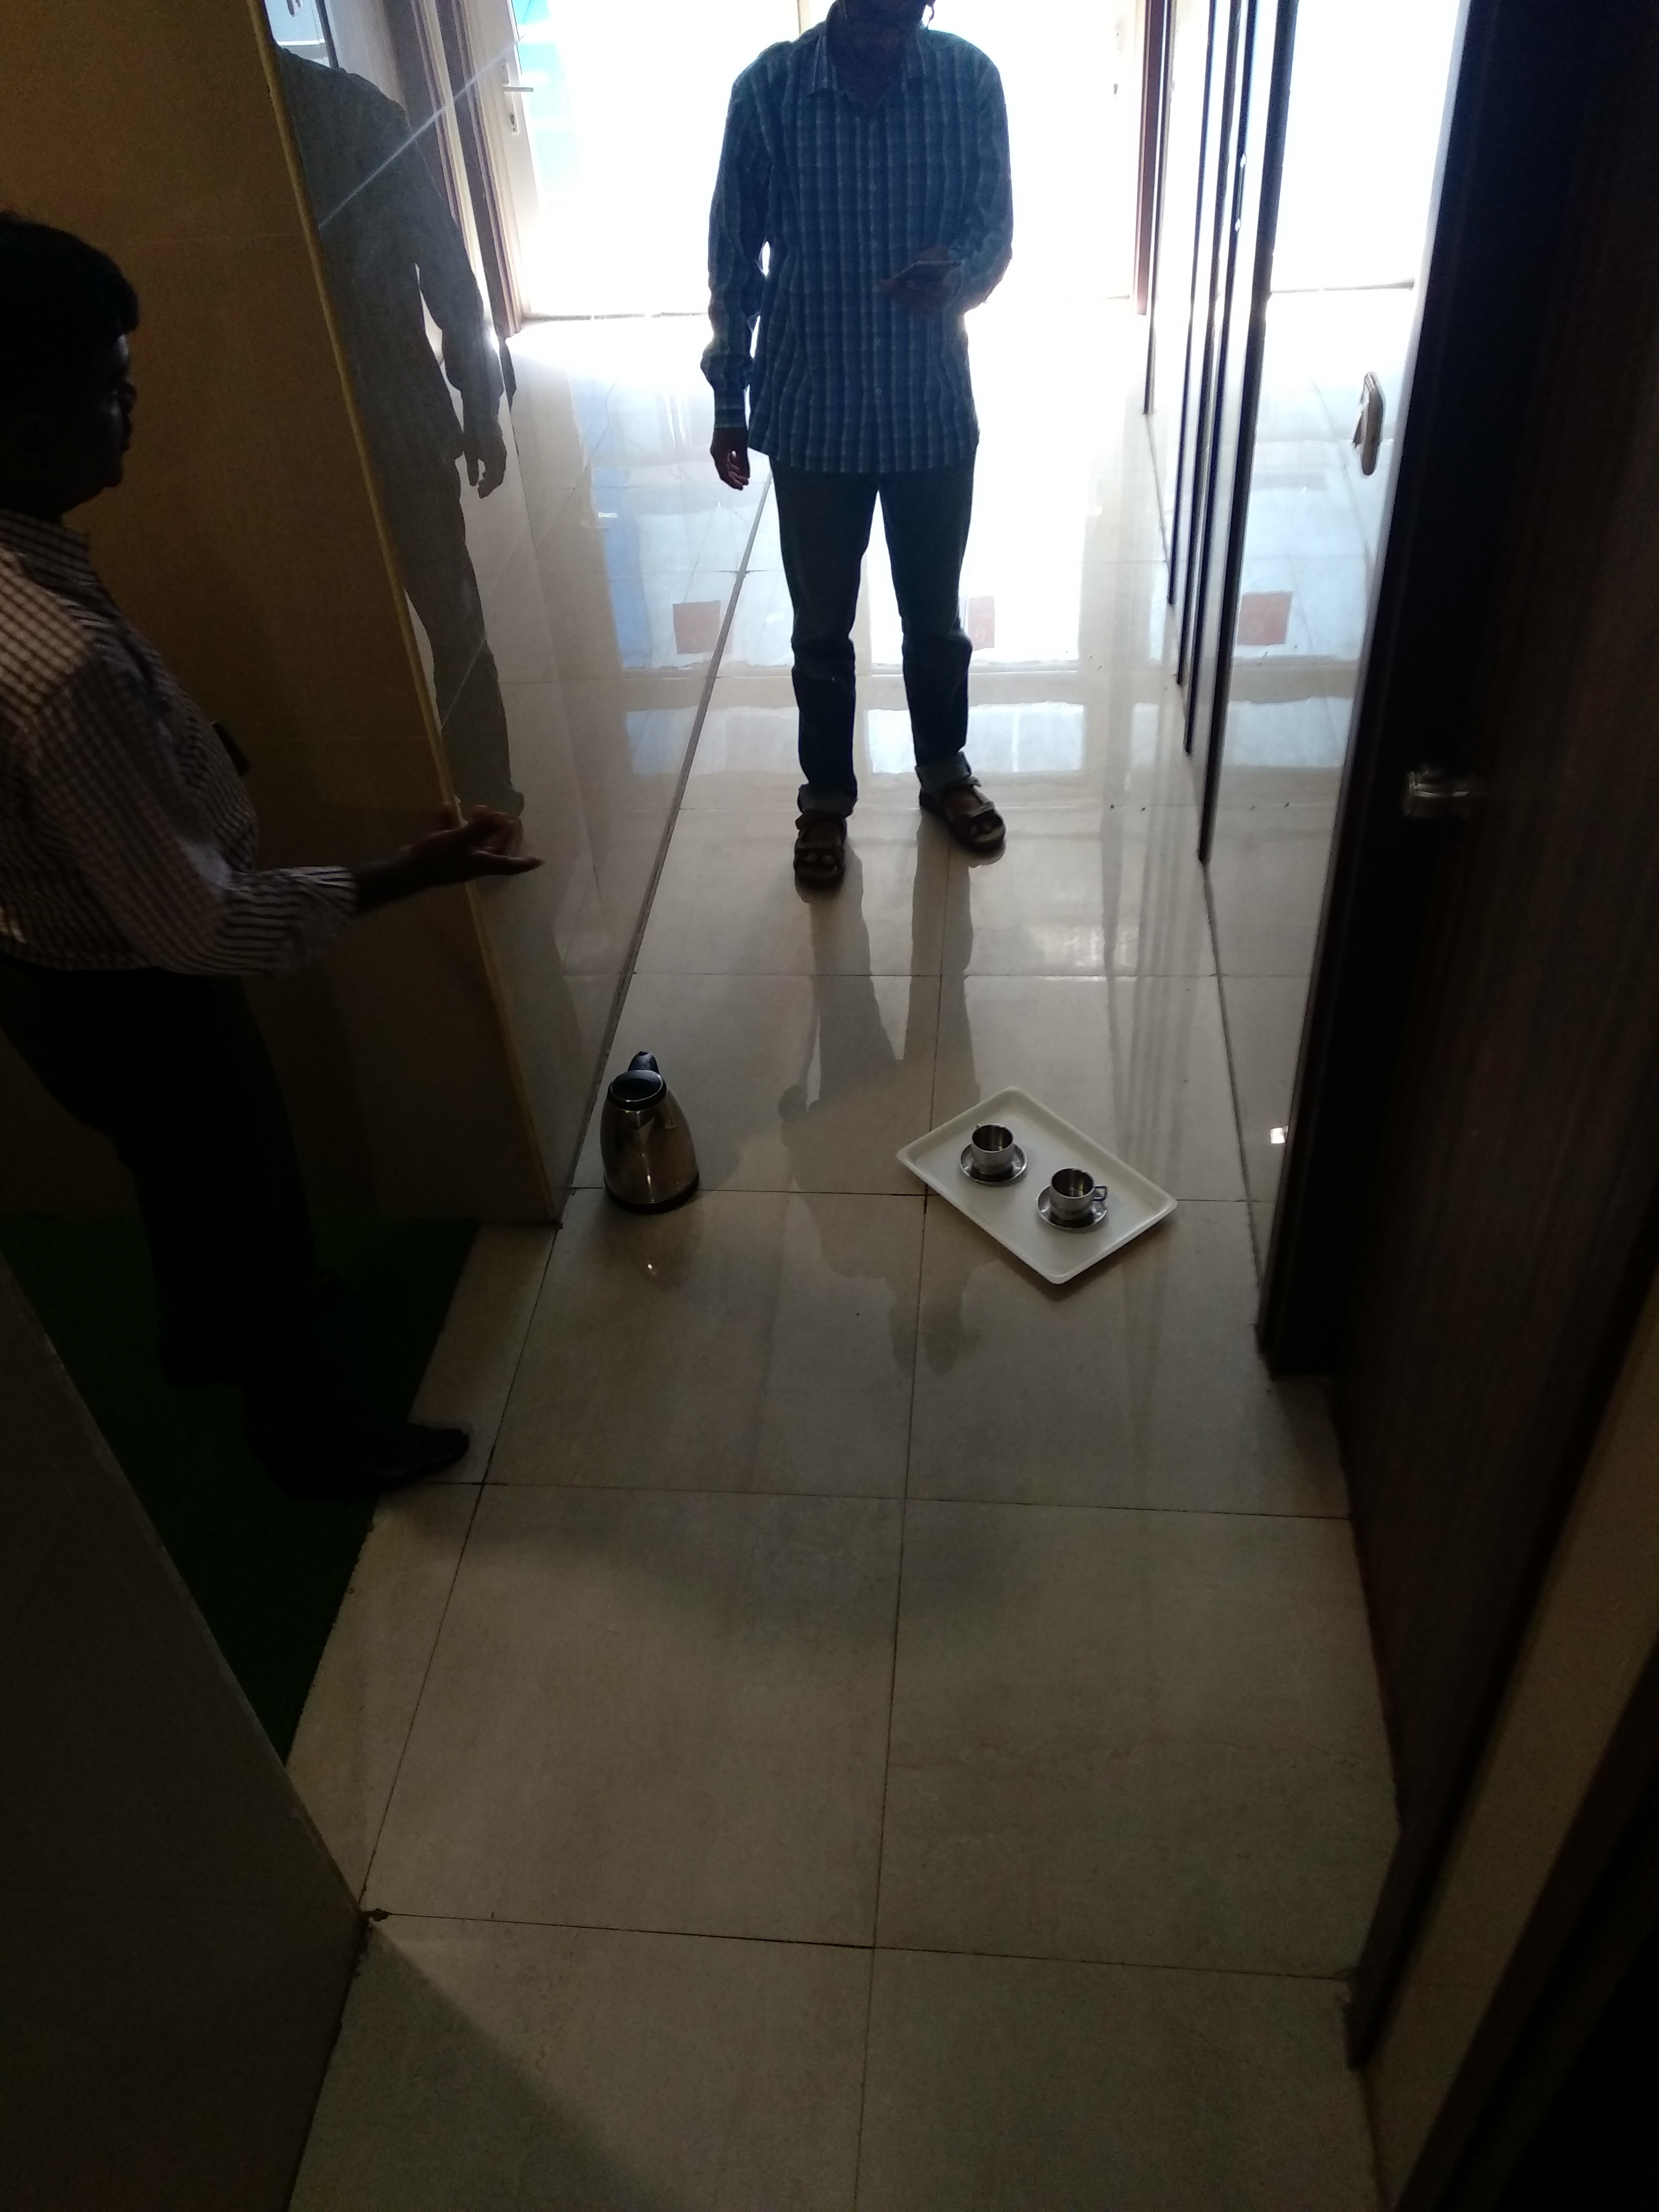CUP: (960, 1122, 1028, 1186), (1039, 1170, 1108, 1231)
JUG: (599, 1049, 697, 1214)
